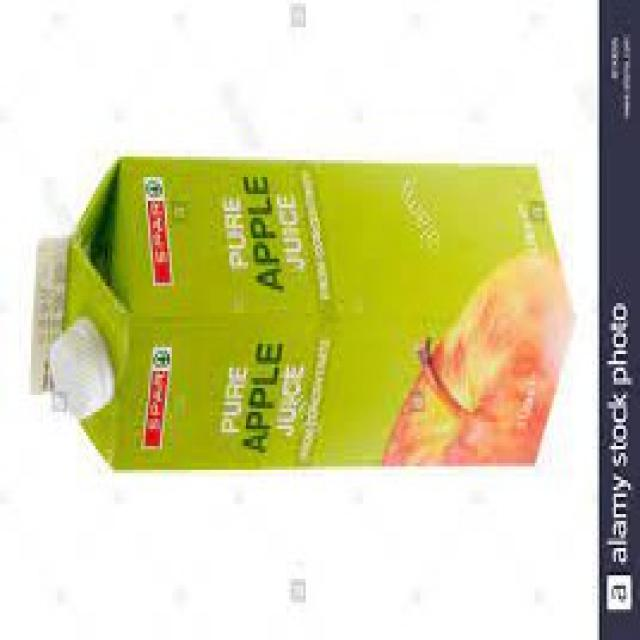non_white_jug: (27, 150, 574, 469)
